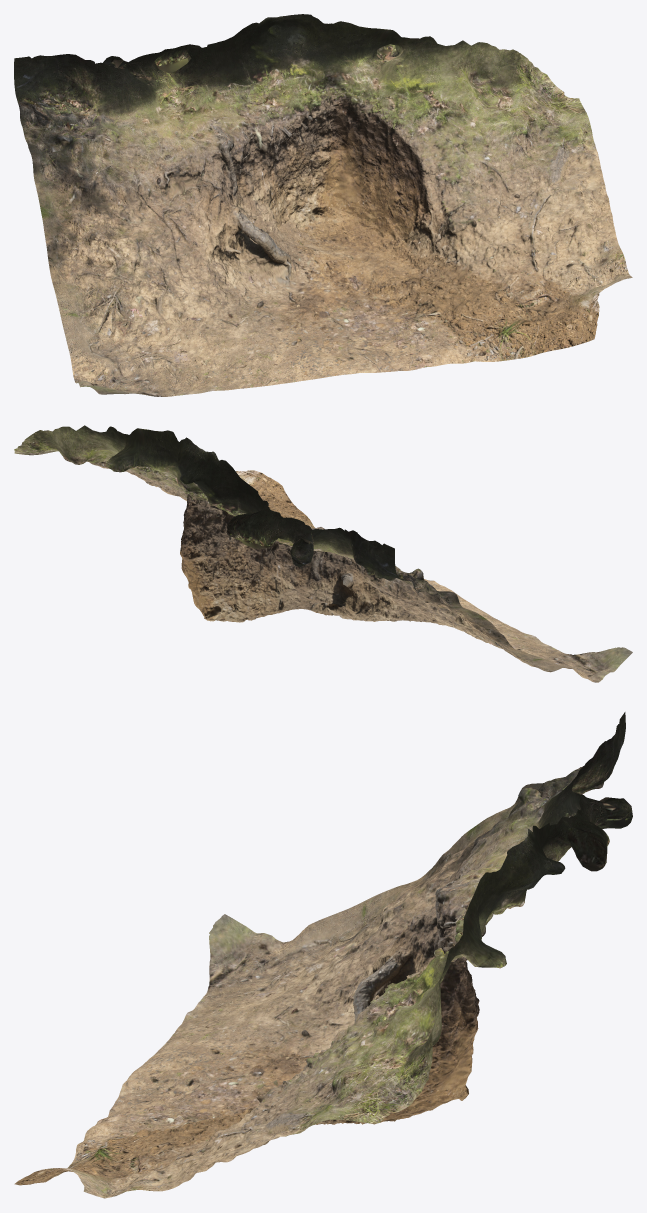
The model's file is fertily.glb.
3 views of the same model, one above another, from view 1: azimuth 30°, elevation 25°; view 2: azimuth 150°, elevation 25°; view 3: azimuth 270°, elevation 25° (orthographic). The views are drawn at different scales.
Parts seen in each view (by area): view 1: Object_2; view 2: Object_2; view 3: Object_2.
Part boxes in pixels (<box>): Object_2: <box>14,14,632,396</box>; Object_2: <box>14,425,632,682</box>; Object_2: <box>14,712,632,1198</box>.
Size of the model in its own units: 57.63 by 23.46 by 42.89.
1 material, 1 textured.
